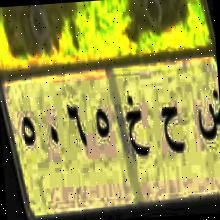0: (45, 118, 61, 156)
5: (92, 101, 113, 148), (18, 110, 38, 156)
6: (64, 99, 88, 156)
7aa: (158, 98, 186, 160)
khaa: (123, 90, 150, 167)
